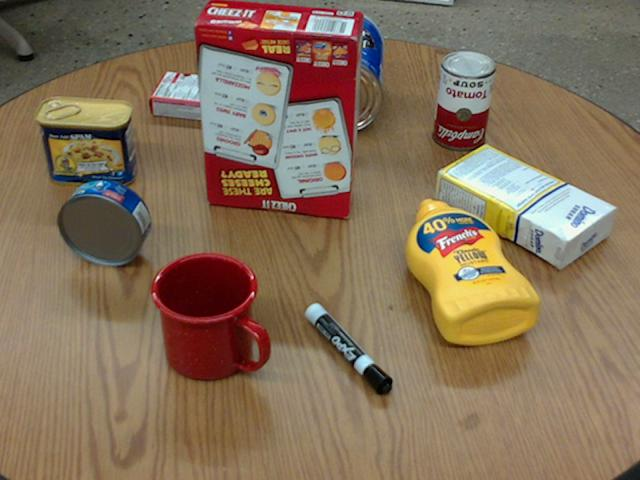cracker_box: (193, 0, 362, 215)
gelatin_box: (148, 72, 228, 122)
large_marker: (303, 302, 391, 394)
master_chef_can: (299, 10, 381, 132)
mug: (149, 252, 270, 381)
mustard_bottle: (404, 198, 539, 344)
potted_meat_can: (34, 98, 135, 187)
sugar_box: (433, 147, 616, 265)
tomato_soup_can: (430, 50, 493, 149)
tuna_fish_can: (57, 178, 149, 266)
